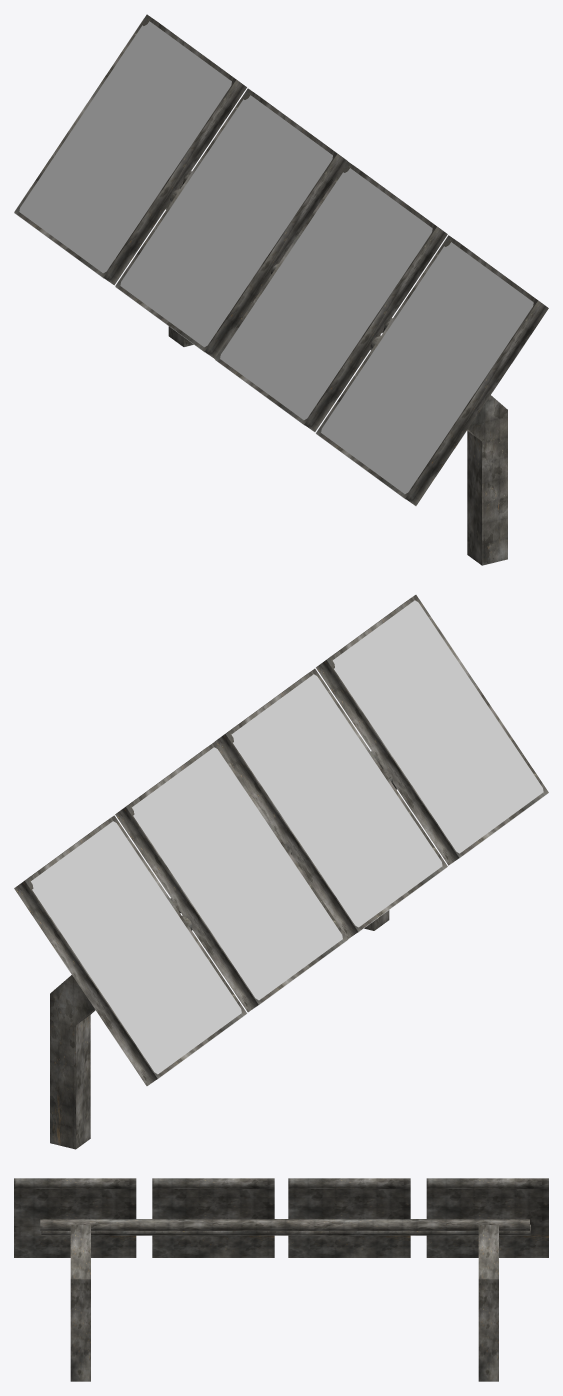
The model's file is SolarPanels.fbx.
3 renders of one model, top to bottom at view 1: azimuth 30°, elevation 25°; view 2: azimuth 150°, elevation 25°; view 3: azimuth 270°, elevation 25°, orthographic. The views are drawn at different scales.
Parts seen in each view (by area): view 1: polySurface2 (×3), polySurface003, pCube4, pCube9, pCube5, pCube8, pCube7; view 2: polySurface2 (×3), polySurface003, pCube3, pCube5, pCube7, pCube9, pCube8; view 3: pCube7, pCube8, pCube9, pCube5, pCylinder1, pCube3, pCube4, pCylinder2.
Part boxes in pixels (left/top/right/bottom): polySurface2 (×3): left=14, top=21, right=533, bottom=499; polySurface003: left=115, top=95, right=332, bottom=352; pCube4: left=467, top=395, right=507, bottom=565; pCube9: left=316, top=235, right=548, bottom=505; pCube5: left=14, top=14, right=246, bottom=285; pCube8: left=215, top=161, right=447, bottom=431; pCube7: left=115, top=88, right=347, bottom=358; polySurface2 (×3): left=31, top=600, right=547, bottom=1079; polySurface003: left=132, top=747, right=347, bottom=1005; pCube3: left=50, top=975, right=95, bottom=1149; pCube5: left=14, top=815, right=246, bottom=1085; pCube7: left=115, top=741, right=347, bottom=1012; pCube9: left=316, top=595, right=548, bottom=865; pCube8: left=215, top=668, right=447, bottom=938; pCube7: left=288, top=1178, right=410, bottom=1257; pCube8: left=152, top=1178, right=274, bottom=1257; pCube9: left=14, top=1178, right=136, bottom=1257; pCube5: left=426, top=1178, right=548, bottom=1257; pCylinder1: left=40, top=1219, right=529, bottom=1230; pCube3: left=478, top=1225, right=498, bottom=1381; pCube4: left=70, top=1225, right=90, bottom=1381; pCylinder2: left=41, top=1224, right=530, bottom=1235.
Size of the model in its own units: 27.9 by 53.96 by 131.
